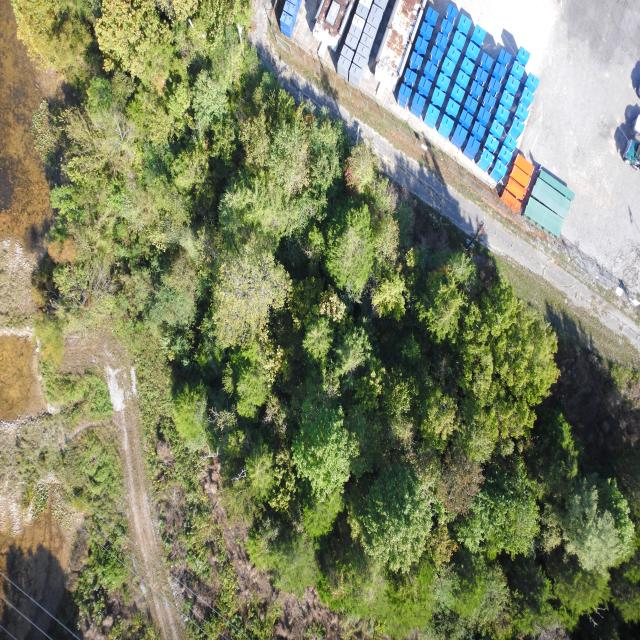Area of Interest: (47, 12, 633, 607)
